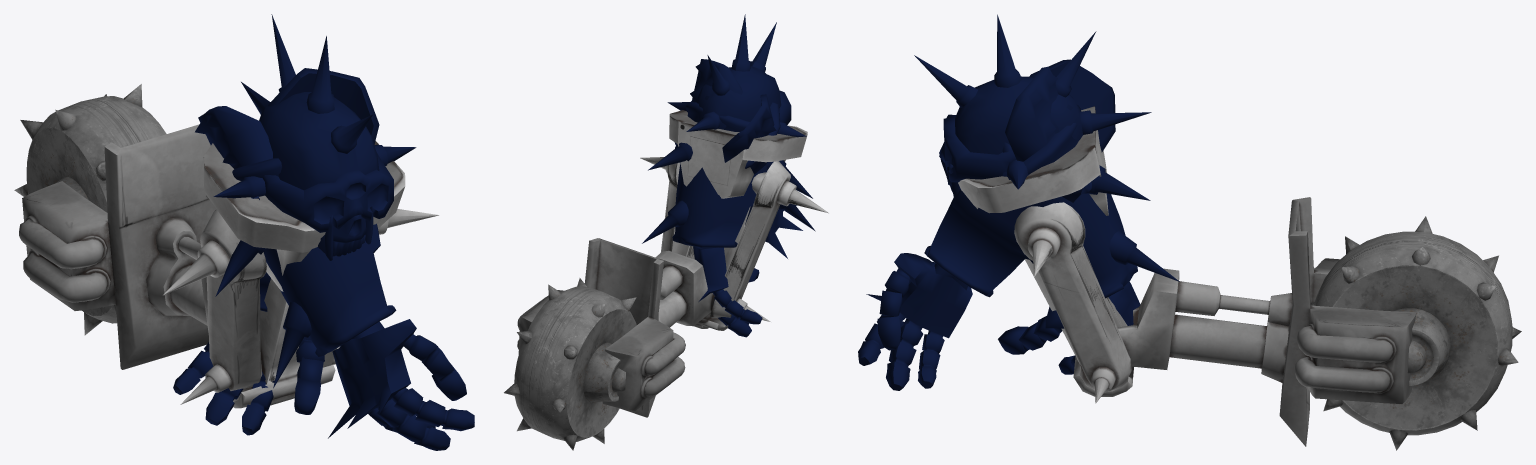
The model's file is character01_deadBits.fbx.
3 renders of one model, left to right at view 1: azimuth 30°, elevation 25°; view 2: azimuth 150°, elevation 25°; view 3: azimuth 270°, elevation 25°, orthographic. The views are drawn at different scales.
Visible parts, largest first — view 1: leg, forearm.R, head, forearm.L; view 2: leg, forearm.L, head, forearm.R; view 3: leg, forearm.R, forearm.L, head.
Part boxes in pixels (x1=…): leg: x1=14, y1=84, x2=439, y2=408; forearm.R: x1=195, y1=106, x2=474, y2=450; head: x1=213, y1=14, x2=416, y2=260; forearm.L: x1=173, y1=68, x2=379, y2=435; leg: x1=504, y1=110, x2=828, y2=450; forearm.L: x1=642, y1=59, x2=767, y2=337; head: x1=667, y1=14, x2=806, y2=137; forearm.R: x1=674, y1=94, x2=815, y2=258; leg: x1=958, y1=106, x2=1521, y2=450; forearm.R: x1=858, y1=59, x2=1115, y2=390; forearm.L: x1=958, y1=66, x2=1179, y2=374; head: x1=914, y1=14, x2=1151, y2=198.
Bounding box in the file's own units: 76.84 × 122 × 177.
